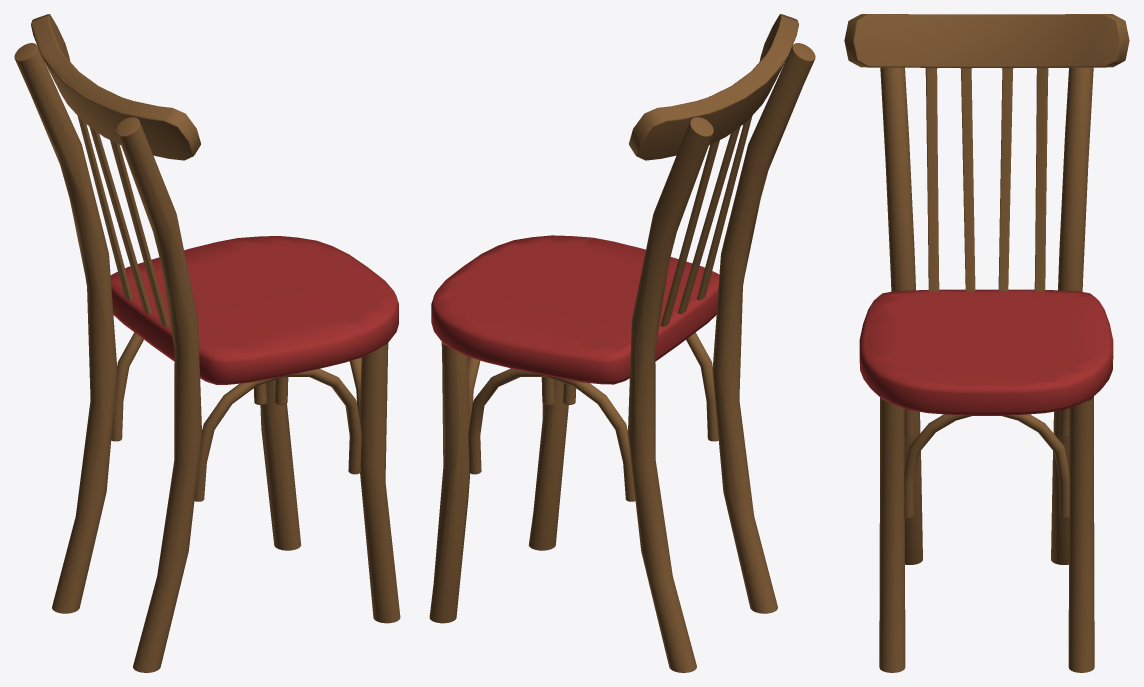
File: Wood Chair.fbx
The picture shows the model from 3 angles, left to right: view 1: azimuth 30°, elevation 25°; view 2: azimuth 150°, elevation 25°; view 3: azimuth 270°, elevation 25°; orthographic projection. The views are drawn at different scales.
Visible parts, largest first — view 1: Wood Chair; view 2: Wood Chair; view 3: Wood Chair.
Boxes of the visible parts, left/top/right/bottom form: Wood Chair: left=14, top=14, right=400, bottom=672; Wood Chair: left=429, top=14, right=815, bottom=672; Wood Chair: left=844, top=14, right=1129, bottom=672.
Bounding box in the file's own units: 102 × 186 × 87.66.
